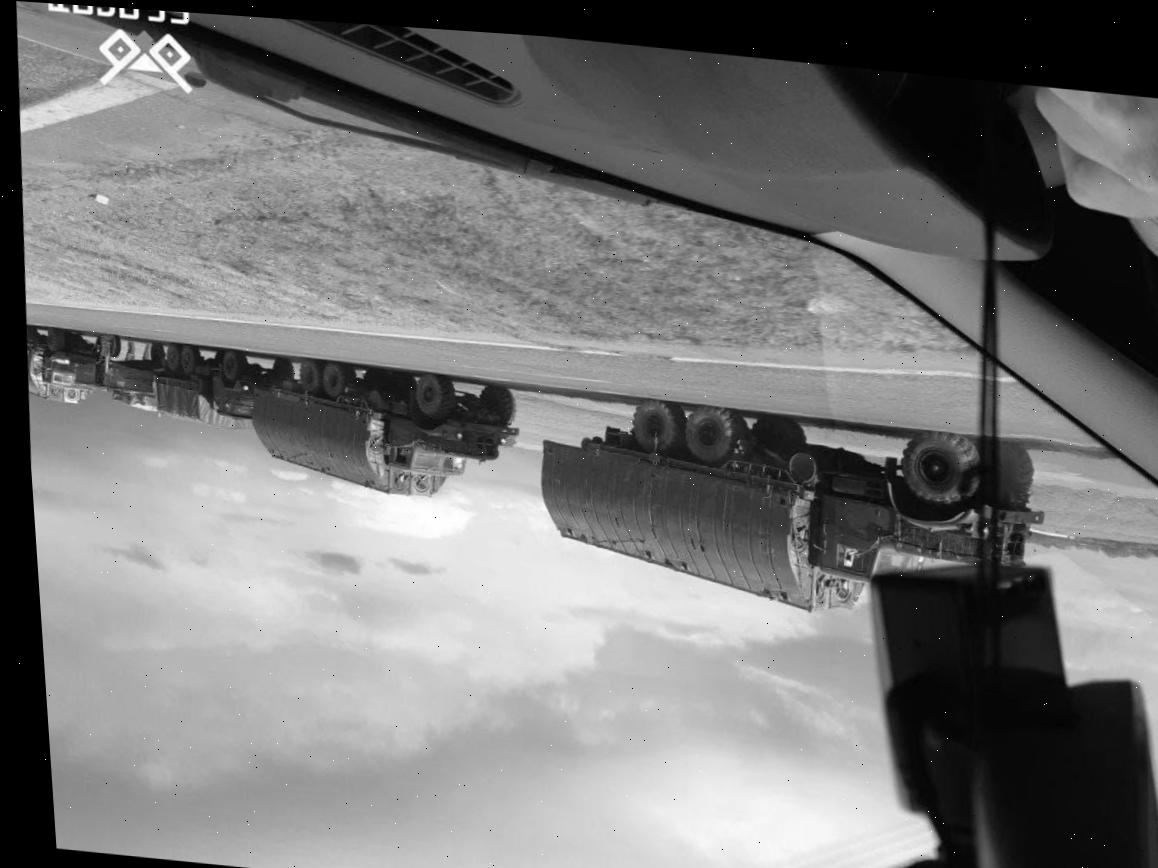truck: (521, 388, 1050, 621), (245, 348, 519, 508), (143, 337, 266, 438), (22, 319, 97, 415)
